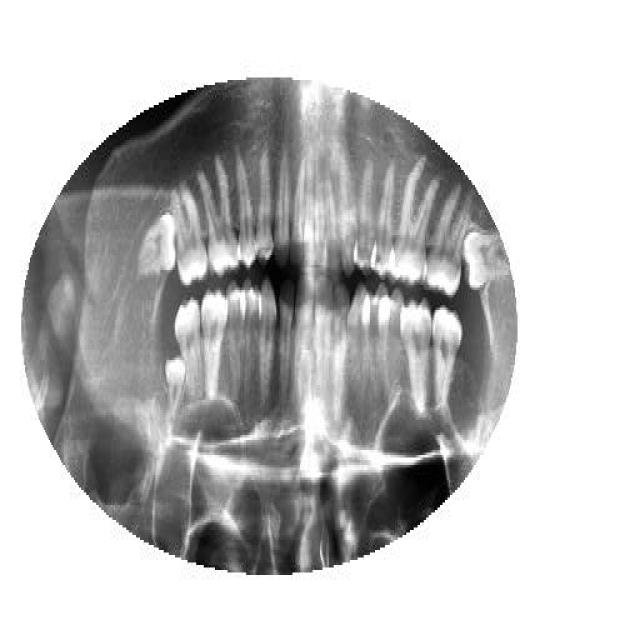Impacted Tooth: (128, 215, 178, 283), (463, 228, 512, 292), (165, 352, 185, 418)
